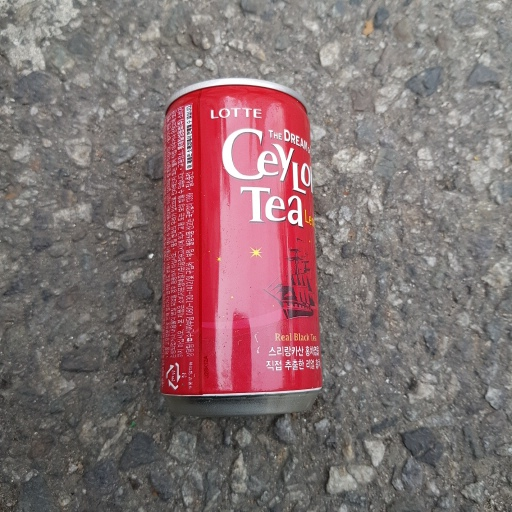Metal_0: (157, 76, 323, 425)
